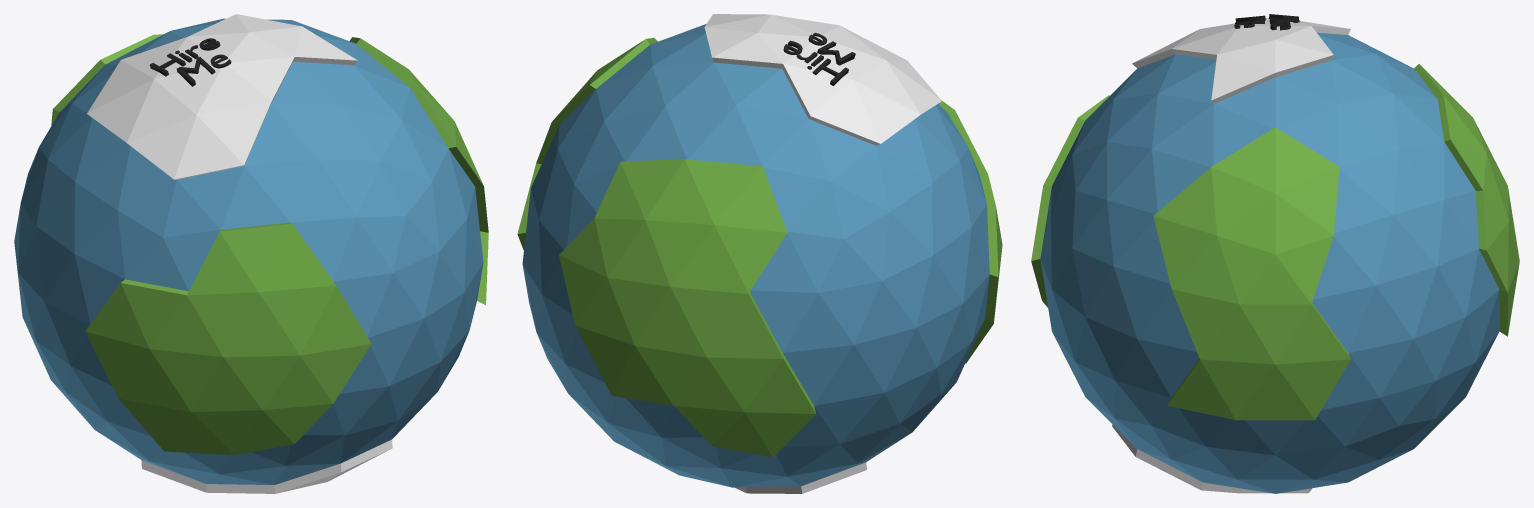
The model's file is planetAlone.glb.
The picture shows the model from 3 angles, left to right: view 1: azimuth 30°, elevation 25°; view 2: azimuth 150°, elevation 25°; view 3: azimuth 270°, elevation 25°; orthographic projection.
Parts seen in each view (by area): view 1: Icosphere, Hire, Me; view 2: Icosphere, Hire, Me; view 3: Icosphere.
Part boxes in pixels (box(x1,y1,x2,y2)): Icosphere: box(14, 14, 488, 493); Hire: box(149, 38, 220, 76); Me: box(176, 54, 231, 86); Icosphere: box(517, 14, 1002, 493); Hire: box(783, 40, 848, 85); Me: box(808, 32, 855, 65); Icosphere: box(1031, 18, 1519, 493).
Size of the model in its own units: 7.05 by 7.14 by 7.18.
